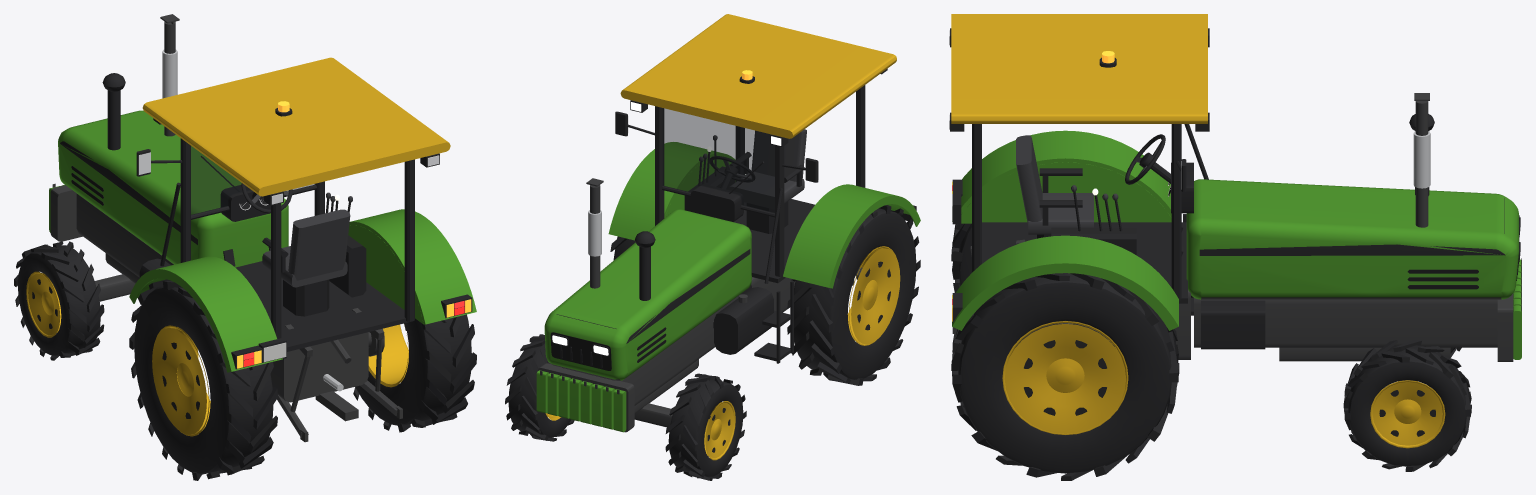
The model's file is tractor_farm.glb.
The picture shows the model from 3 angles, left to right: view 1: azimuth 30°, elevation 25°; view 2: azimuth 150°, elevation 25°; view 3: azimuth 270°, elevation 25°; orthographic projection. The views are drawn at different scales.
Visible parts, largest first — view 1: Body, Wheel_RL, Wheel_RR, Interior, Wheel_FL, Glass; view 2: Body, Wheel_RL, Glass, Wheel_FL, Interior, Wheel_FR, SteeringWheel; view 3: Body, Wheel_RR, Wheel_FR, Interior, Wheel_RL, SteeringWheel.
Part boxes in pixels (x1,y1,x2,y2): Body: (49,14,476,442); Wheel_RL: (129,279,277,480); Wheel_RR: (353,314,476,432); Interior: (220,185,366,316); Wheel_FL: (14,241,104,360); Glass: (191,146,315,215); Body: (536,14,920,432); Wheel_RL: (787,205,920,385); Glass: (663,108,774,213); Wheel_FL: (665,373,746,480); Interior: (684,129,806,233); Wheel_FR: (505,334,574,441); SteeringWheel: (709,156,755,182); Body: (950,14,1521,381); Wheel_RR: (951,273,1179,480); Wheel_FR: (1343,339,1471,471); Interior: (1016,135,1193,255); Wheel_RL: (951,223,971,292); SteeringWheel: (1125,134,1165,184).
Bounding box in the file's own units: 2.22 × 2.8 × 4.02.
